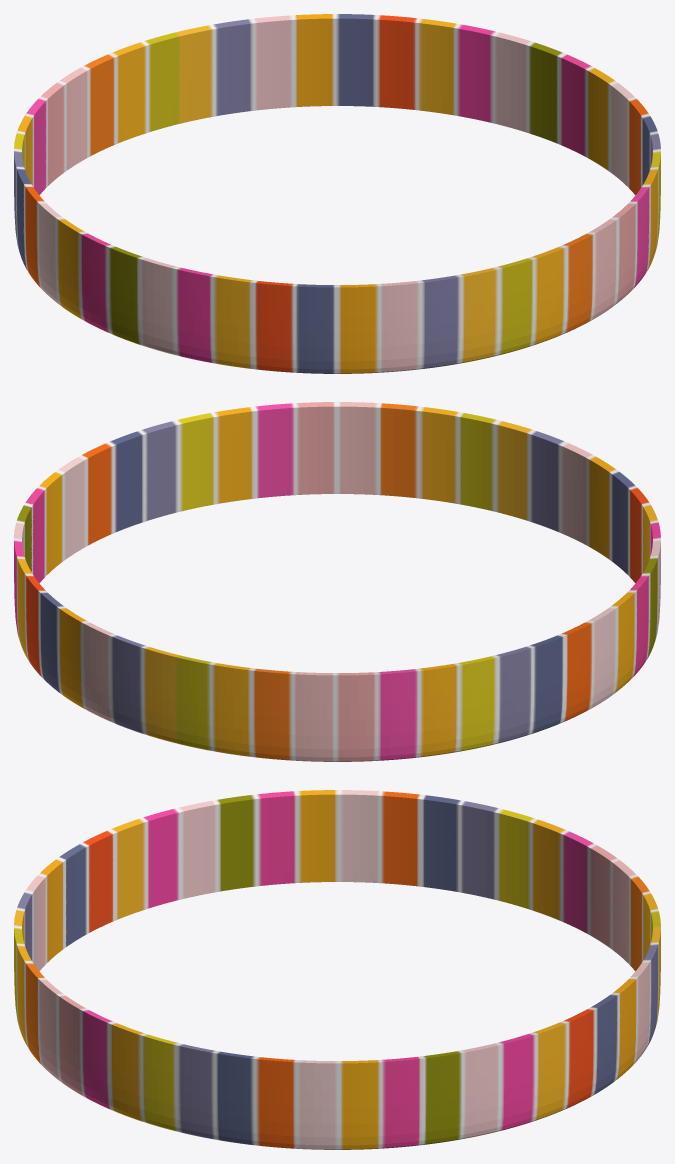
Rendered from Wall-2.fbx.
The picture shows the model from 3 angles, top to bottom: view 1: azimuth 30°, elevation 25°; view 2: azimuth 150°, elevation 25°; view 3: azimuth 270°, elevation 25°; orthographic projection.
Parts seen in each view (by area): view 1: Cylinder.001; view 2: Cylinder.001; view 3: Cylinder.001.
Boxes of the visible parts, bbox=[...] form: Cylinder.001: bbox=[14, 14, 660, 373]; Cylinder.001: bbox=[14, 402, 660, 761]; Cylinder.001: bbox=[14, 790, 660, 1149].
Bounding box in the file's own units: 1959 × 297 × 1959.
